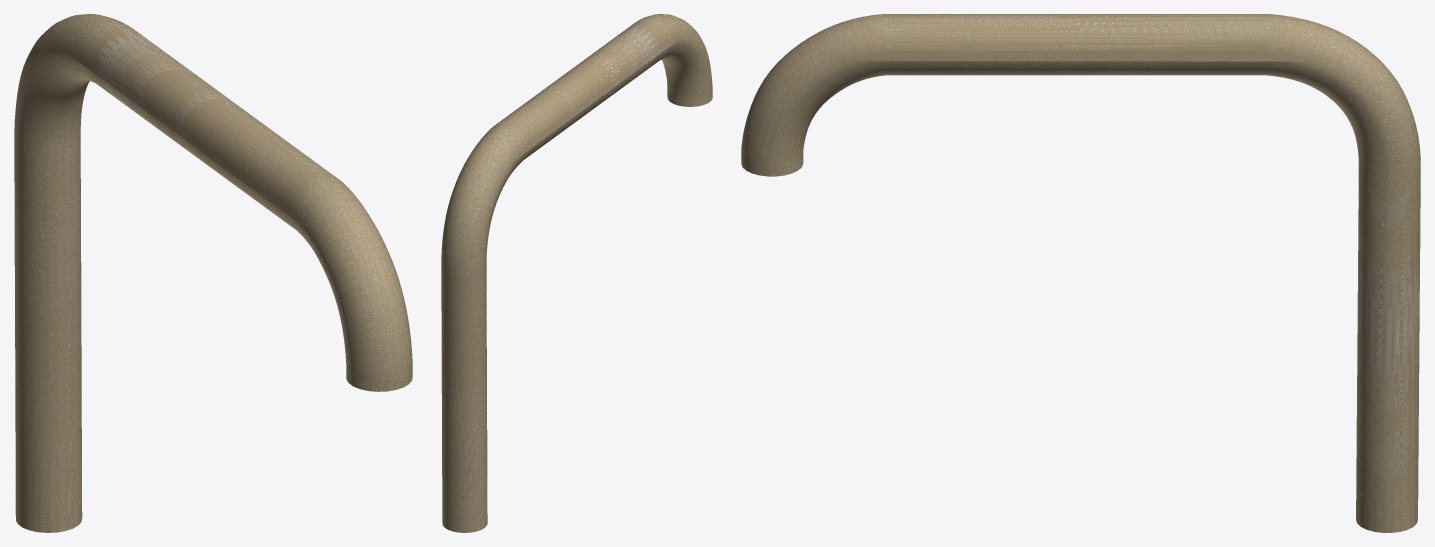
The model's file is original-2.obj.
3 renders of one model, left to right at view 1: azimuth 30°, elevation 25°; view 2: azimuth 150°, elevation 25°; view 3: azimuth 270°, elevation 25°, orthographic. The views are drawn at different scales.
Parts seen in each view (by area): view 1: mesh2/mesh2-geometry#mesh2-geometry; view 2: mesh2/mesh2-geometry#mesh2-geometry; view 3: mesh2/mesh2-geometry#mesh2-geometry.
Boxes of the visible parts, x1,y1,x2,y2 form: mesh2/mesh2-geometry#mesh2-geometry: (14,14,412,532); mesh2/mesh2-geometry#mesh2-geometry: (441,14,712,532); mesh2/mesh2-geometry#mesh2-geometry: (741,14,1420,532).
Size of the model in its own units: 0.104 by 0.9418 by 1.15.
